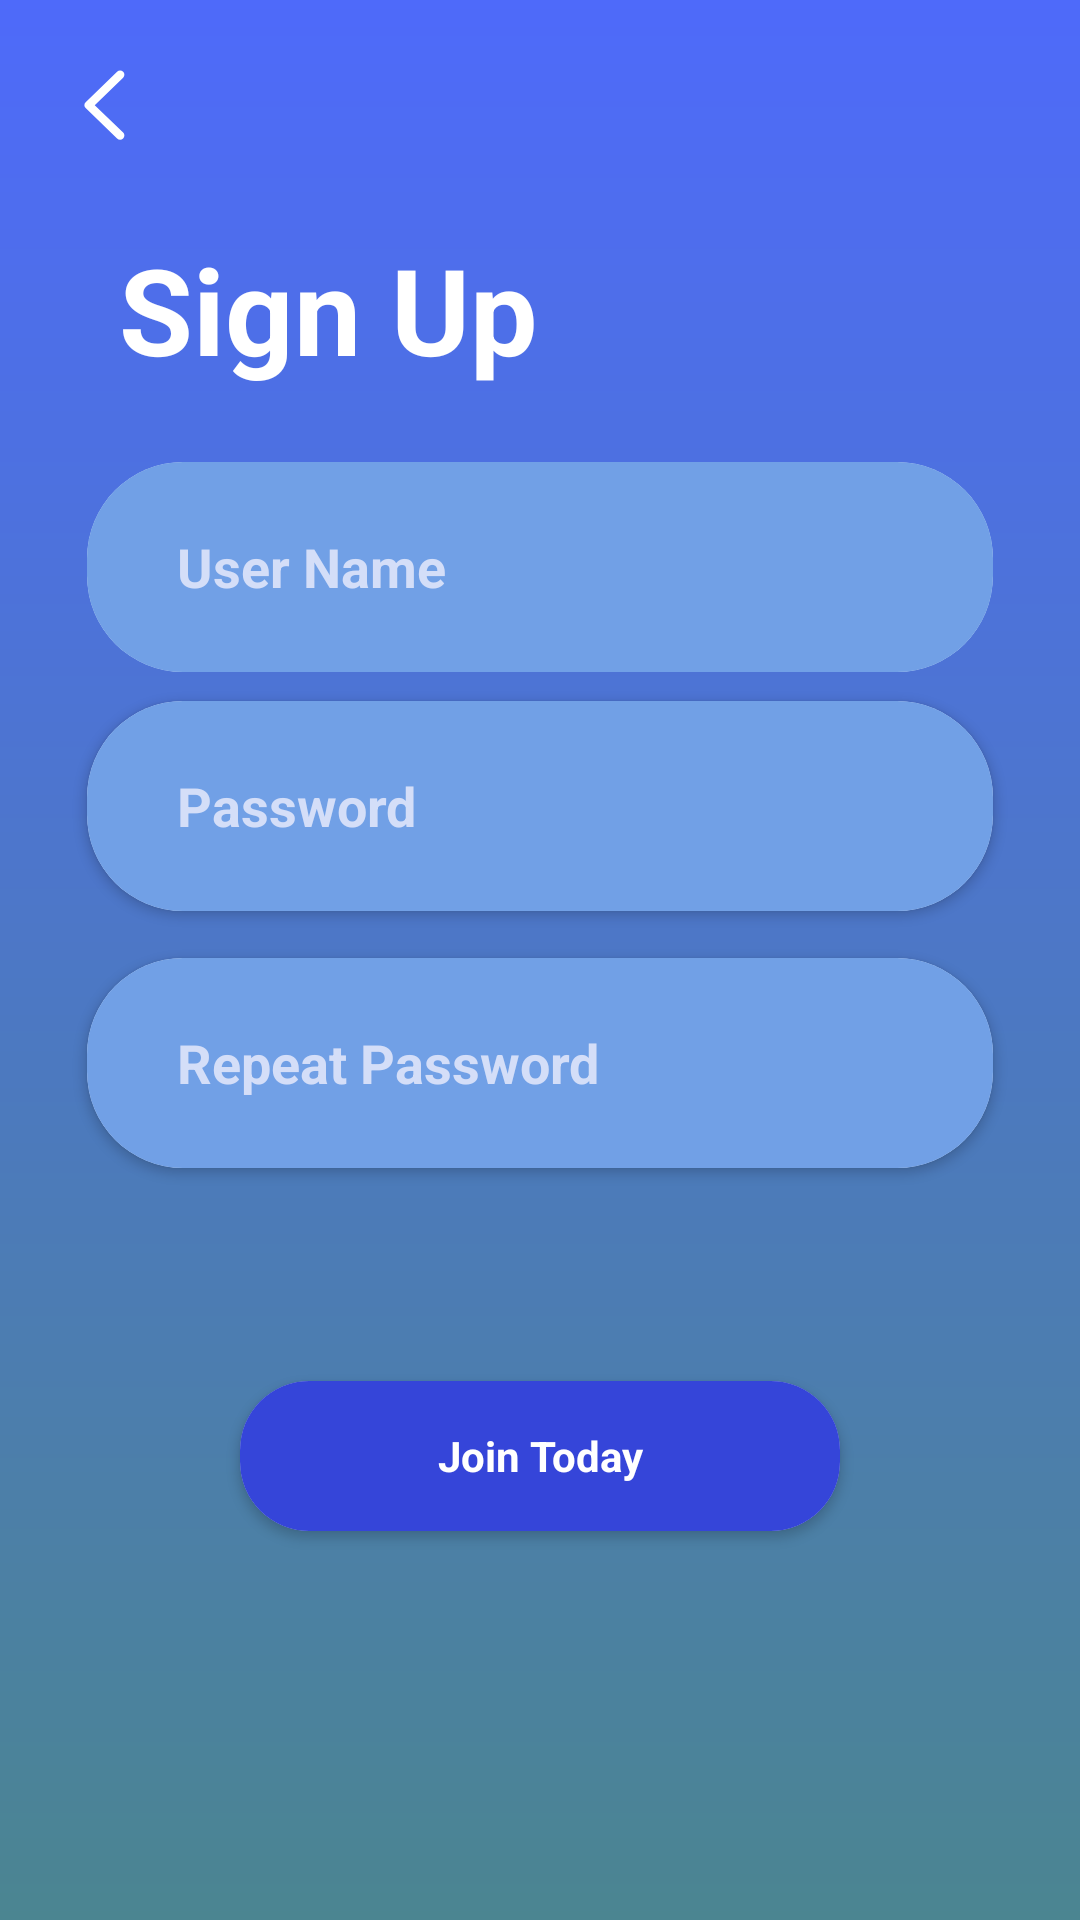

Where to tap for icons on this 1080 x 1920 app screen, as point (x, y):
back: point (104, 105)
